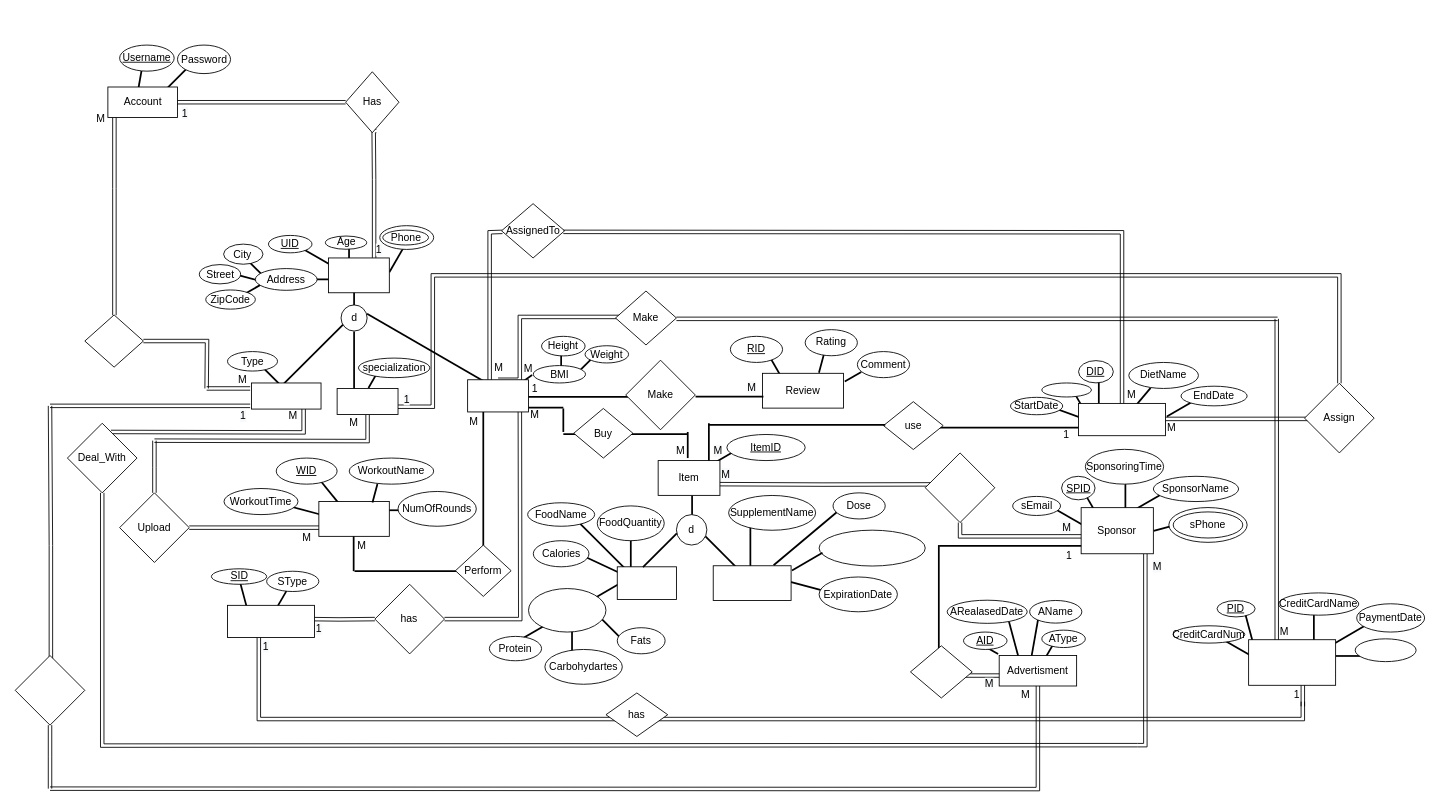
Image size: 1440x806. Some labels were removed from this diagram. Each missing label, with the centre of its shape:
"Admin" belongs at (x=286, y=395).
"Check" belongs at (x=49, y=690).
"Coach" belongs at (x=367, y=401).
"Customer" belongs at (x=498, y=395).
"DietProgram" belongs at (x=1122, y=419).
"Food" belongs at (x=646, y=582).
"Manage" belongs at (x=113, y=340).
"NutritionValue" belongs at (x=567, y=610).
"Payment" belongs at (x=1292, y=662).
"Pincode" belongs at (x=1385, y=650).
"Price" belongs at (x=1066, y=389).
"Promote" belongs at (x=941, y=671).
"Provide" belongs at (x=959, y=487).
"Subscription" belongs at (x=271, y=621).
"Supplement" belongs at (x=751, y=583).
"SupplementQuantity" belongs at (x=871, y=547).
"User" belongs at (x=358, y=275).
"Workout" belongs at (x=353, y=518).
